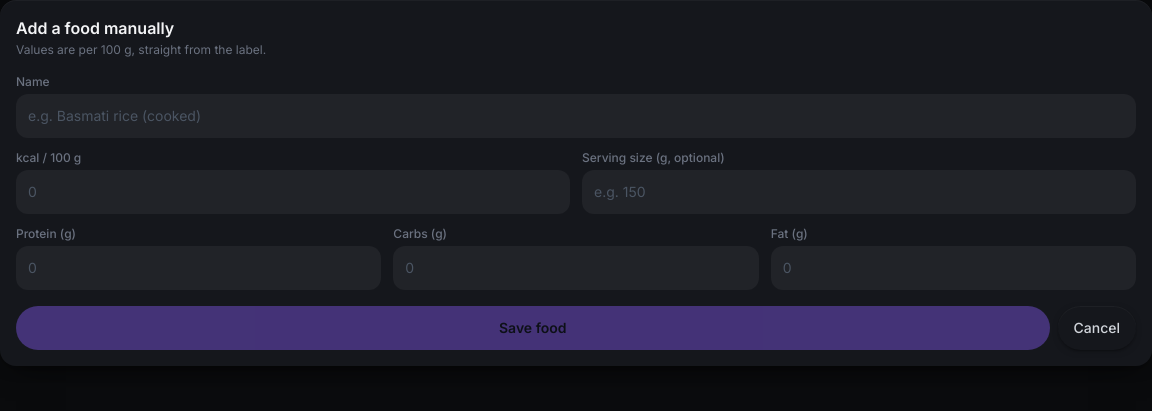
Test: ManualFoodForm › shows the API error and stays editable
In the field with test id "mf-name": x=576, y=116 [16, 94, 1136, 138], type "Dal"
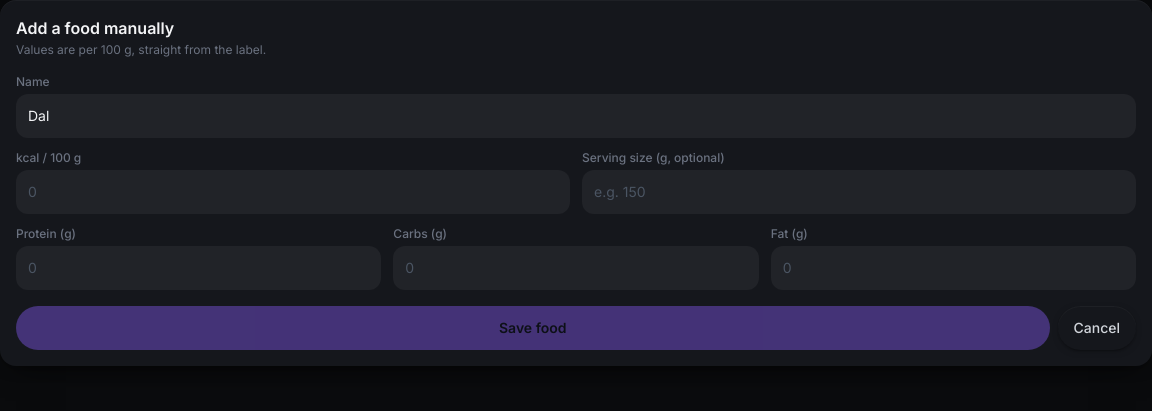
In the field with test id "mf-kcal": x=293, y=192 [16, 170, 570, 214], type "120"
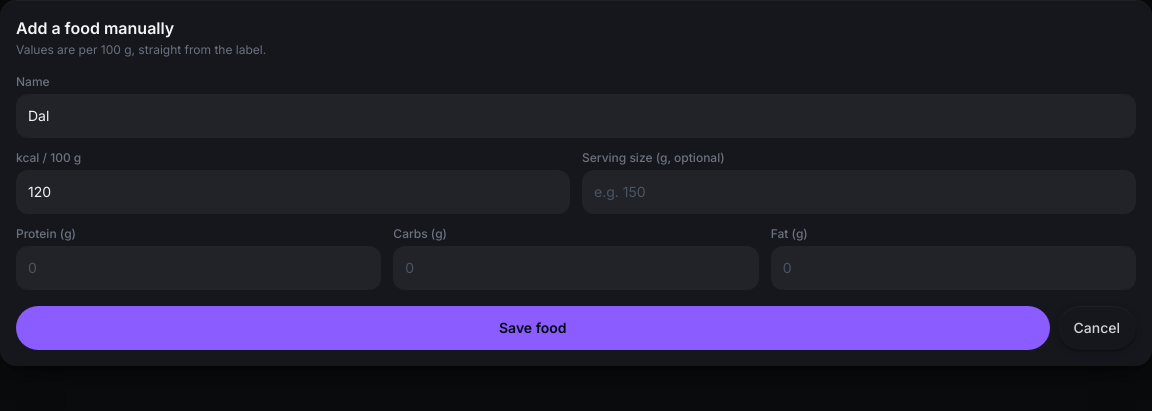
Click the button with test id "mf-save": x=533, y=328 [16, 306, 1050, 350]
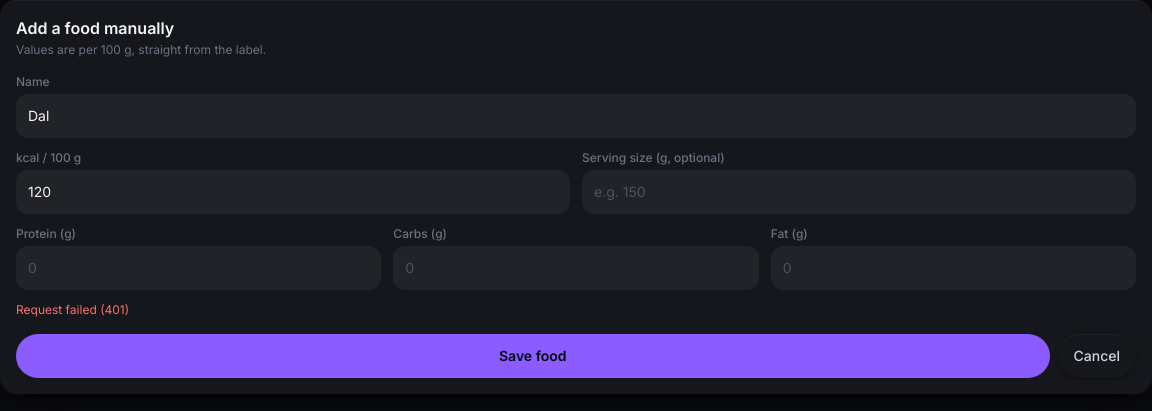
Now the button with test id "mf-save" is enabled, box [16, 334, 1050, 378]
Now the message shows "401", box [16, 302, 129, 317]
